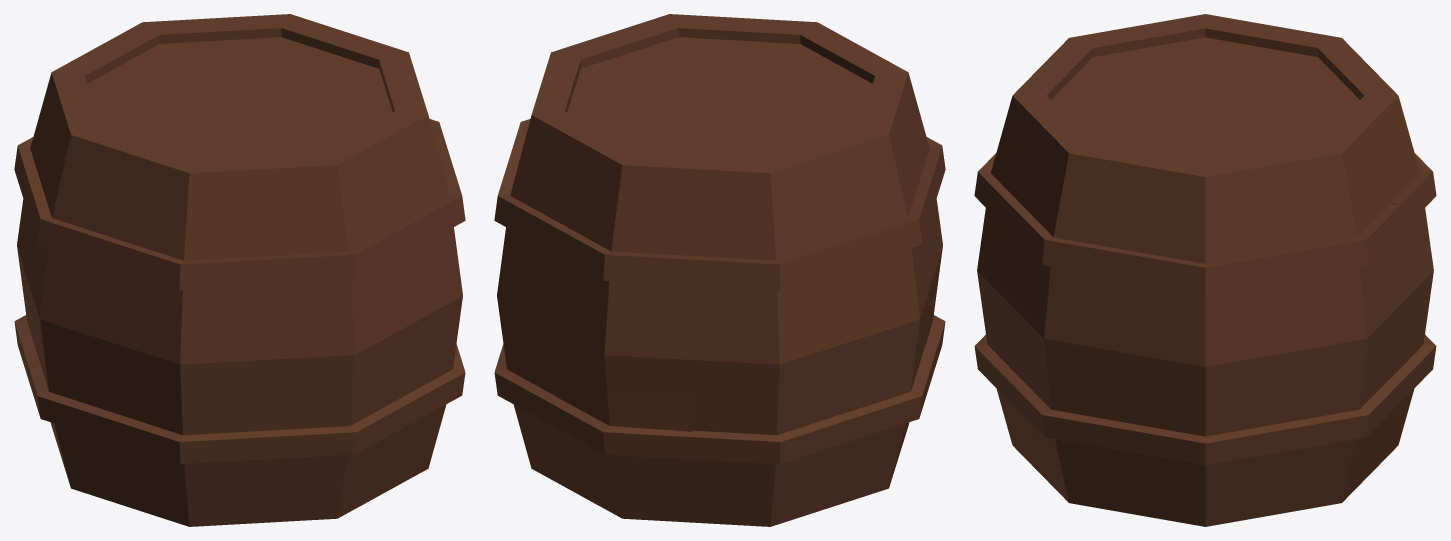
The model's file is tonneau1Pieces.glb.
The picture shows the model from 3 angles, left to right: view 1: azimuth 30°, elevation 25°; view 2: azimuth 150°, elevation 25°; view 3: azimuth 270°, elevation 25°; orthographic projection.
Parts seen in each view (by area): view 1: tonneau, tonneau_cell.027, tonneau_cell.005, tonneau_cell.045, tonneau_cell.071, tonneau_cell.064, tonneau_cell.052, tonneau_cell.003, tonneau_cell.039, tonneau_cell.026, tonneau_cell.063, tonneau_cell.055 (+16 smaller); view 2: tonneau, tonneau_cell.085, tonneau_cell.086, tonneau_cell.051, tonneau_cell.094, tonneau_cell.074, tonneau_cell.003, tonneau_cell.071, tonneau_cell.039, tonneau_cell.055, tonneau_cell.041, tonneau_cell.084 (+19 smaller); view 3: tonneau, tonneau_cell.002, tonneau_cell.047, tonneau_cell.087, tonneau_cell.071, tonneau_cell.078, tonneau_cell.055, tonneau_cell.035, tonneau_cell.003, tonneau_cell.039, tonneau_cell.058, tonneau_cell.006 (+19 smaller).
Part boxes in pixels (x1=…): tonneau: x1=14, y1=14, x2=465, y2=526; tonneau_cell.027: x1=267, y1=291, x2=405, y2=391; tonneau_cell.005: x1=267, y1=359, x2=410, y2=443; tonneau_cell.045: x1=110, y1=209, x2=267, y2=276; tonneau_cell.071: x1=242, y1=92, x2=437, y2=192; tonneau_cell.064: x1=109, y1=375, x2=267, y2=445; tonneau_cell.052: x1=30, y1=256, x2=112, y2=373; tonneau_cell.003: x1=241, y1=103, x2=392, y2=224; tonneau_cell.039: x1=123, y1=103, x2=264, y2=224; tonneau_cell.026: x1=110, y1=313, x2=267, y2=398; tonneau_cell.063: x1=109, y1=259, x2=267, y2=325; tonneau_cell.055: x1=221, y1=33, x2=329, y2=102; tonneau: x1=494, y1=14, x2=945, y2=526; tonneau_cell.085: x1=692, y1=309, x2=849, y2=399; tonneau_cell.086: x1=551, y1=292, x2=692, y2=391; tonneau_cell.051: x1=554, y1=359, x2=692, y2=443; tonneau_cell.094: x1=693, y1=427, x2=849, y2=491; tonneau_cell.074: x1=692, y1=261, x2=850, y2=325; tonneau_cell.003: x1=721, y1=38, x2=837, y2=101; tonneau_cell.071: x1=630, y1=33, x2=738, y2=101; tonneau_cell.039: x1=722, y1=61, x2=913, y2=141; tonneau_cell.055: x1=548, y1=91, x2=717, y2=191; tonneau_cell.041: x1=839, y1=155, x2=916, y2=257; tonneau_cell.084: x1=553, y1=200, x2=690, y2=268; tonneau: x1=974, y1=14, x2=1436, y2=526; tonneau_cell.002: x1=1125, y1=319, x2=1285, y2=401; tonneau_cell.047: x1=1124, y1=271, x2=1286, y2=327; tonneau_cell.087: x1=1285, y1=272, x2=1400, y2=380; tonneau_cell.071: x1=1029, y1=105, x2=1204, y2=217; tonneau_cell.078: x1=1009, y1=177, x2=1131, y2=268; tonneau_cell.055: x1=1206, y1=105, x2=1381, y2=218; tonneau_cell.035: x1=1124, y1=385, x2=1286, y2=450; tonneau_cell.003: x1=1018, y1=81, x2=1202, y2=174; tonneau_cell.039: x1=1070, y1=43, x2=1203, y2=103; tonneau_cell.058: x1=1208, y1=43, x2=1340, y2=103; tonneau_cell.006: x1=1030, y1=432, x2=1136, y2=514.
Bounding box in the file's own units: 0.9834 × 0.8214 × 0.9834.
Materials: 1 (1 with a texture image).
